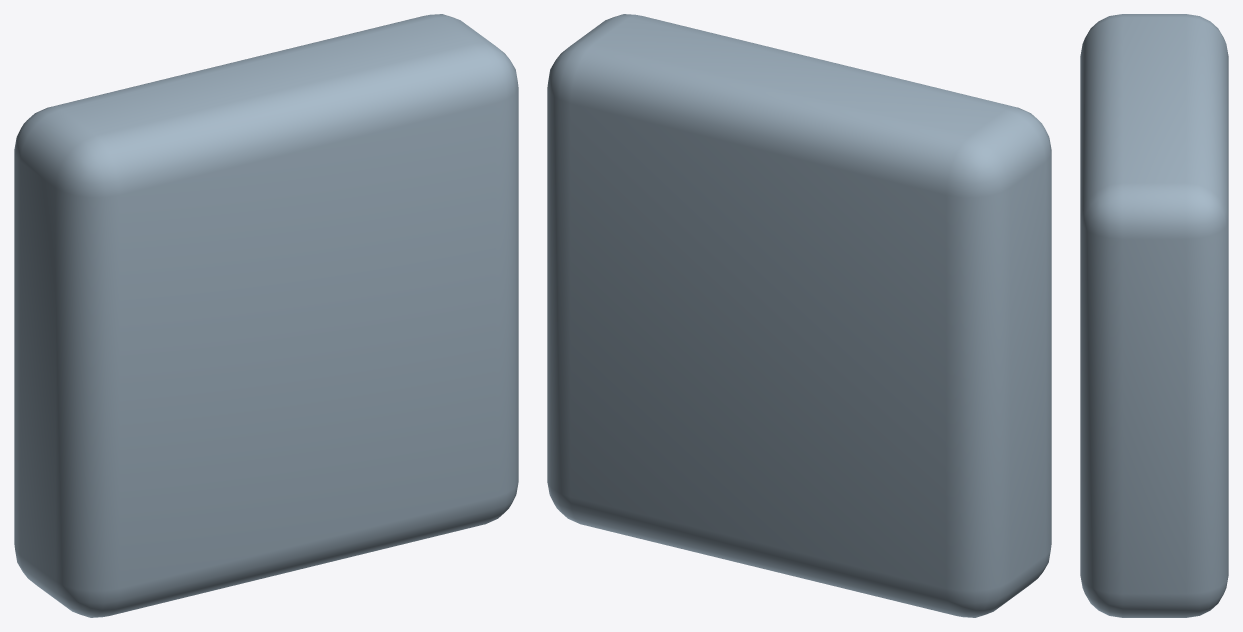
File: cushion_blue.glb
3 renders of one model, left to right at view 1: azimuth 30°, elevation 25°; view 2: azimuth 150°, elevation 25°; view 3: azimuth 270°, elevation 25°, orthographic. The views are drawn at different scales.
Visible parts, largest first — view 1: cushion; view 2: cushion; view 3: cushion.
Boxes of the visible parts, <box> form: cushion: <box>14,14,518,617</box>; cushion: <box>547,14,1051,617</box>; cushion: <box>1080,14,1228,617</box>.
Size of the model in its own units: 0.45 by 0.45 by 0.14.
